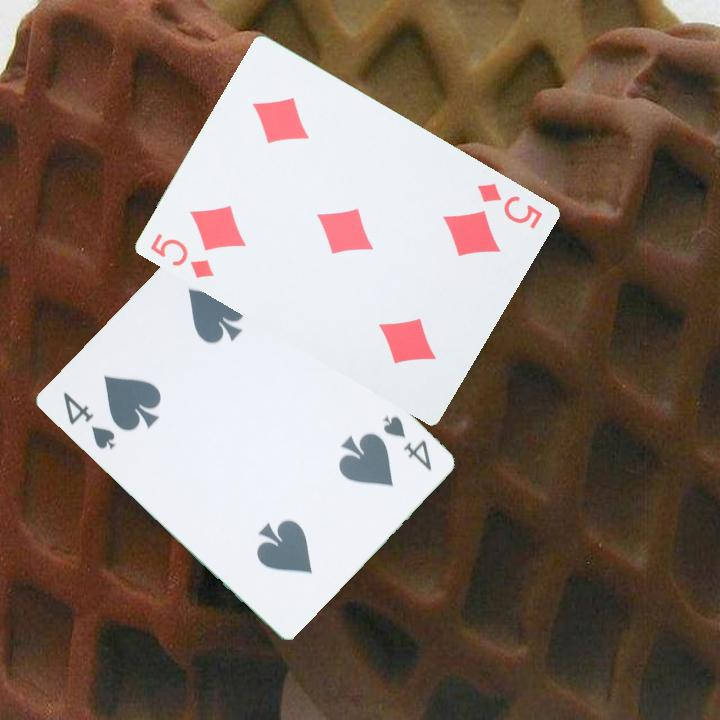4s: (58, 388, 118, 452), (379, 411, 434, 473)
5d: (472, 178, 546, 232), (146, 229, 217, 281)
